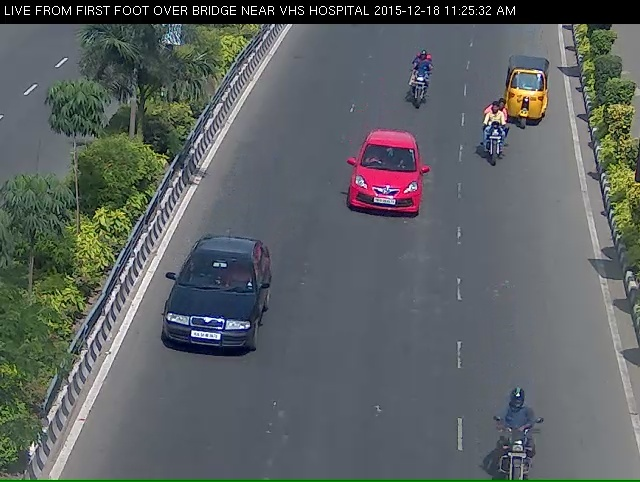Auto: (505, 55, 554, 139)
Car: (151, 242, 274, 385), (338, 129, 426, 237)
Person: (488, 401, 547, 480), (473, 102, 507, 173), (407, 49, 438, 118)
